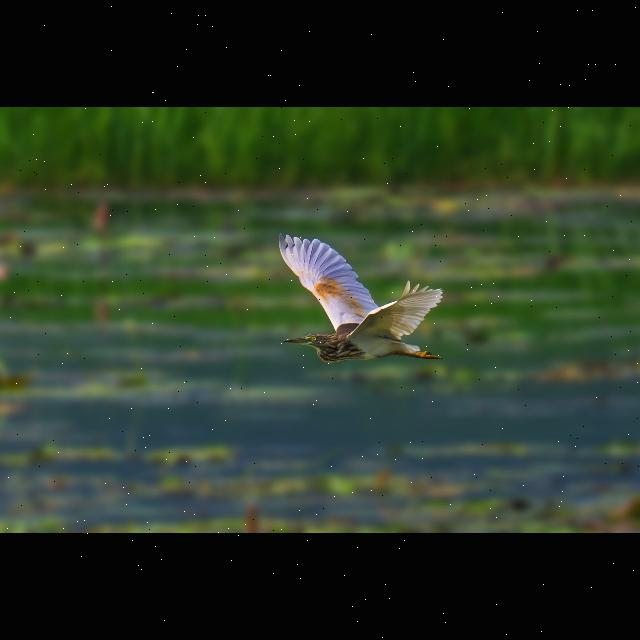heron: (272, 226, 454, 370)
